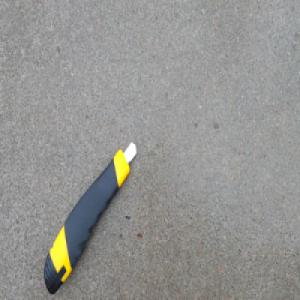Cutter: (42, 138, 137, 287)
